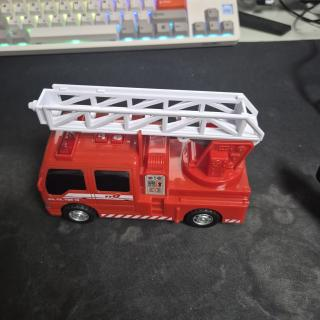Fire_truck: (29, 84, 264, 227)
